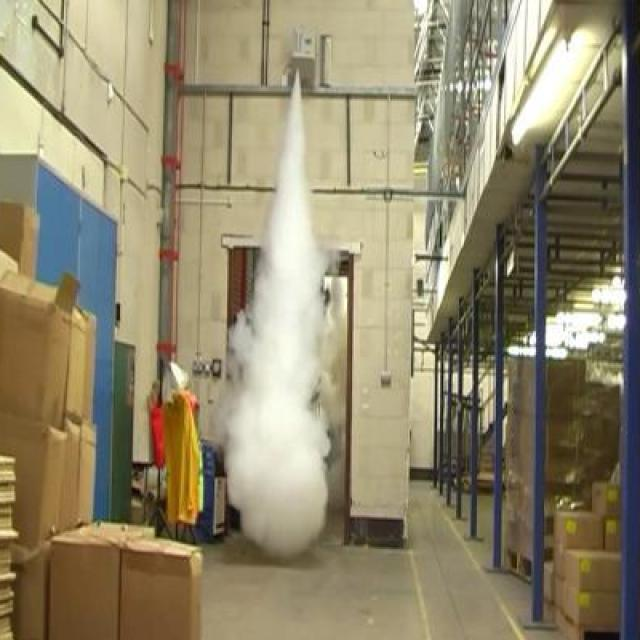fire: (220, 117, 337, 568)
